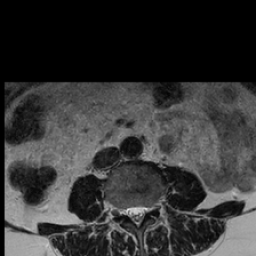CCS_normal: (133, 199, 140, 233)
LFS_stenosis: (147, 197, 155, 220)
LLS_normal: (140, 198, 147, 223)
RFS_normal: (118, 199, 125, 221)
RLS_normal: (125, 199, 133, 225)
